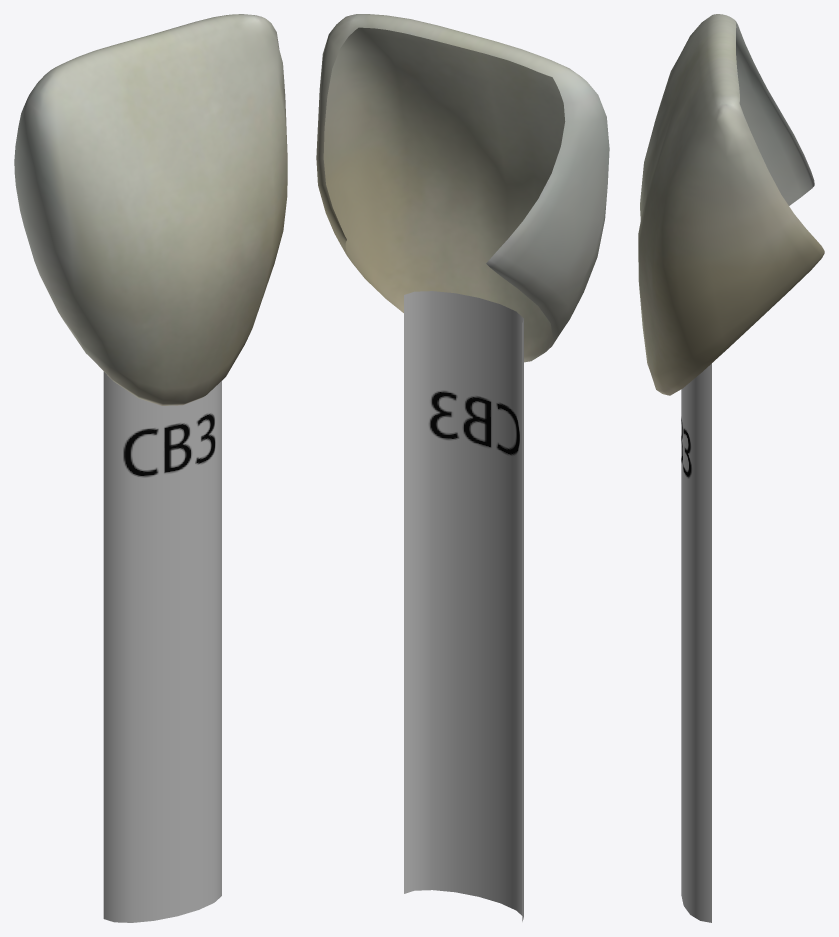
3 renders of one model, left to right at view 1: azimuth 30°, elevation 25°; view 2: azimuth 150°, elevation 25°; view 3: azimuth 270°, elevation 25°, orthographic. The views are drawn at different scales.
Parts seen in each view (by area): view 1: Tab; view 2: Tab; view 3: Tab.
Part boxes in pixels (bbox=[...]): Tab: bbox=[14, 14, 287, 922]; Tab: bbox=[316, 14, 609, 921]; Tab: bbox=[638, 14, 824, 922].
Size of the model in its own units: 0.00859 by 0.0273 by 0.00547.
Materials: 1 (1 with a texture image).
